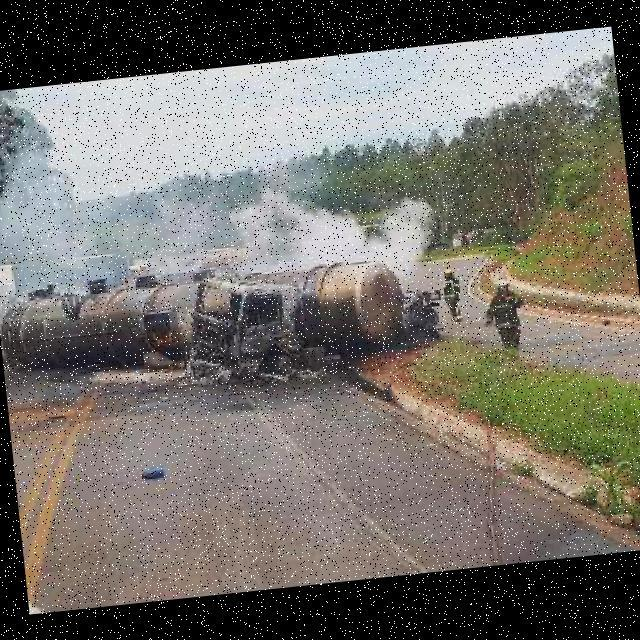Fire: (149, 330, 174, 342)
Smoke: (222, 166, 448, 301)
